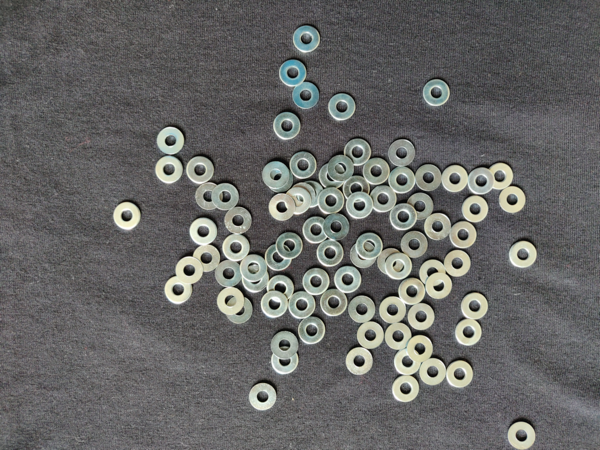circle: (164, 276, 193, 305), (240, 265, 270, 293), (113, 202, 141, 231), (155, 156, 183, 185), (509, 240, 537, 269), (216, 288, 245, 316), (346, 347, 374, 376), (407, 303, 436, 331), (190, 218, 218, 247), (195, 182, 223, 211), (400, 231, 429, 259), (357, 321, 385, 350), (348, 295, 376, 324), (320, 289, 348, 318), (344, 138, 372, 167), (317, 239, 345, 268), (215, 260, 244, 288), (268, 193, 297, 221), (285, 186, 311, 217), (423, 79, 451, 107), (329, 93, 357, 121), (293, 25, 321, 53), (273, 112, 301, 140), (157, 127, 185, 155), (249, 383, 277, 411), (350, 241, 378, 269), (379, 296, 407, 324), (298, 317, 326, 345), (290, 151, 318, 179), (262, 161, 290, 189), (240, 255, 268, 283), (278, 60, 307, 87), (187, 156, 214, 185), (267, 165, 294, 194), (223, 234, 250, 263), (272, 346, 299, 374), (271, 332, 298, 360), (508, 423, 536, 450), (446, 361, 474, 388), (461, 293, 488, 321), (462, 196, 489, 224), (416, 164, 443, 192), (389, 139, 416, 167), (398, 278, 425, 306), (407, 194, 435, 221), (390, 203, 417, 231), (363, 157, 390, 185), (343, 176, 371, 203), (385, 253, 413, 280), (288, 291, 315, 319), (261, 291, 288, 319), (267, 276, 295, 303), (318, 187, 345, 215), (289, 182, 316, 210), (442, 164, 468, 193), (211, 185, 240, 211), (293, 82, 320, 109), (419, 359, 446, 386), (455, 320, 482, 347), (499, 186, 526, 213), (176, 257, 203, 284), (226, 298, 253, 325), (467, 168, 494, 195), (450, 222, 477, 249), (394, 350, 421, 377), (385, 324, 412, 351), (389, 166, 416, 193), (346, 193, 373, 220), (319, 163, 346, 190), (393, 376, 419, 404), (193, 246, 221, 272), (324, 213, 350, 241), (488, 163, 514, 190), (425, 214, 451, 241), (407, 336, 433, 363), (426, 273, 452, 300), (371, 186, 397, 213), (356, 234, 383, 260), (377, 249, 404, 275), (335, 266, 361, 293), (303, 269, 329, 296), (303, 217, 329, 244), (265, 244, 291, 271), (224, 208, 251, 234), (445, 251, 471, 277), (420, 260, 446, 286), (298, 182, 324, 208), (328, 156, 353, 183), (277, 233, 302, 259)
